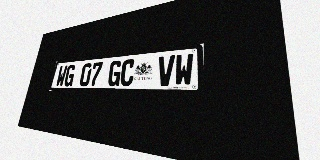0: (79, 63, 93, 86)
7: (89, 62, 103, 86)
C: (119, 59, 136, 86)
G: (107, 60, 122, 86), (63, 64, 76, 86)
V: (157, 55, 175, 86)
W: (174, 53, 194, 86), (55, 65, 68, 86)
